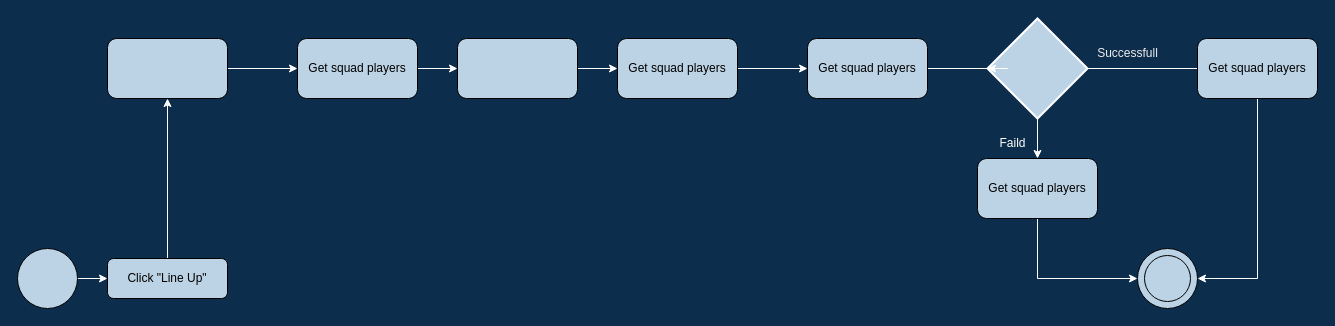
Image size: 1335x326. Some labels were removed from this diagram. Each missing label, with the box of its shape:
Edit Line Up: (456, 38, 578, 98)
if Line Up is True: (986, 17, 1088, 119)
Request current squad: (106, 38, 228, 98)
